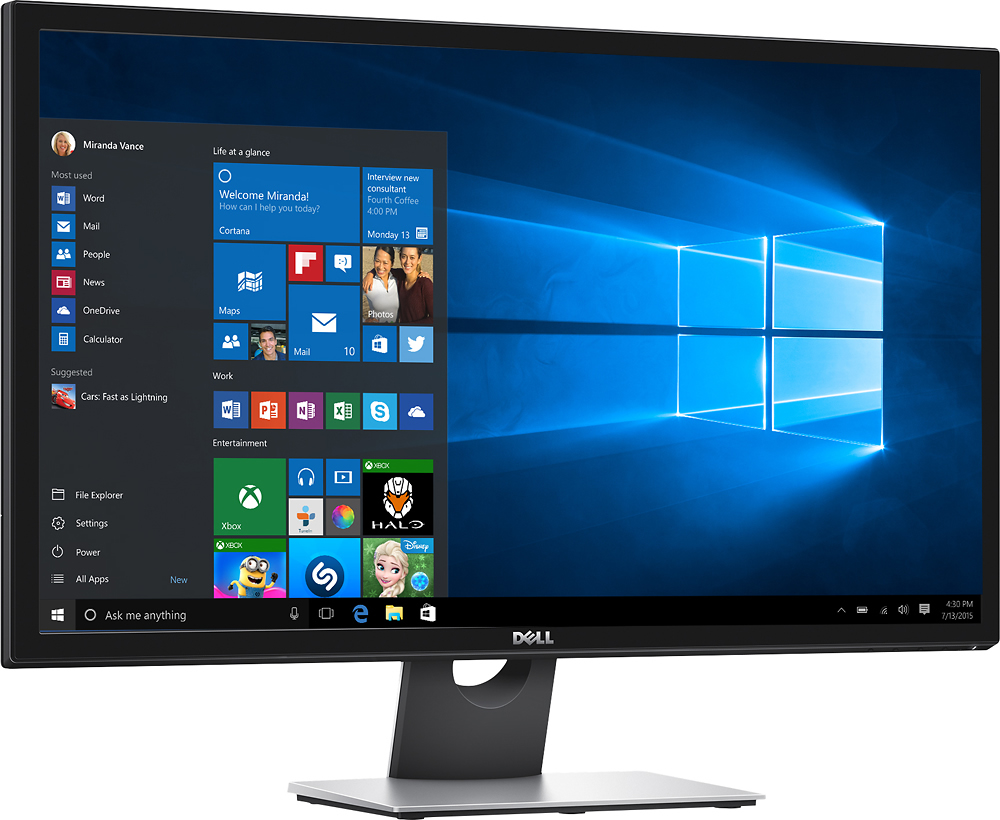Desktop Screen: (1, 1, 1000, 673)
